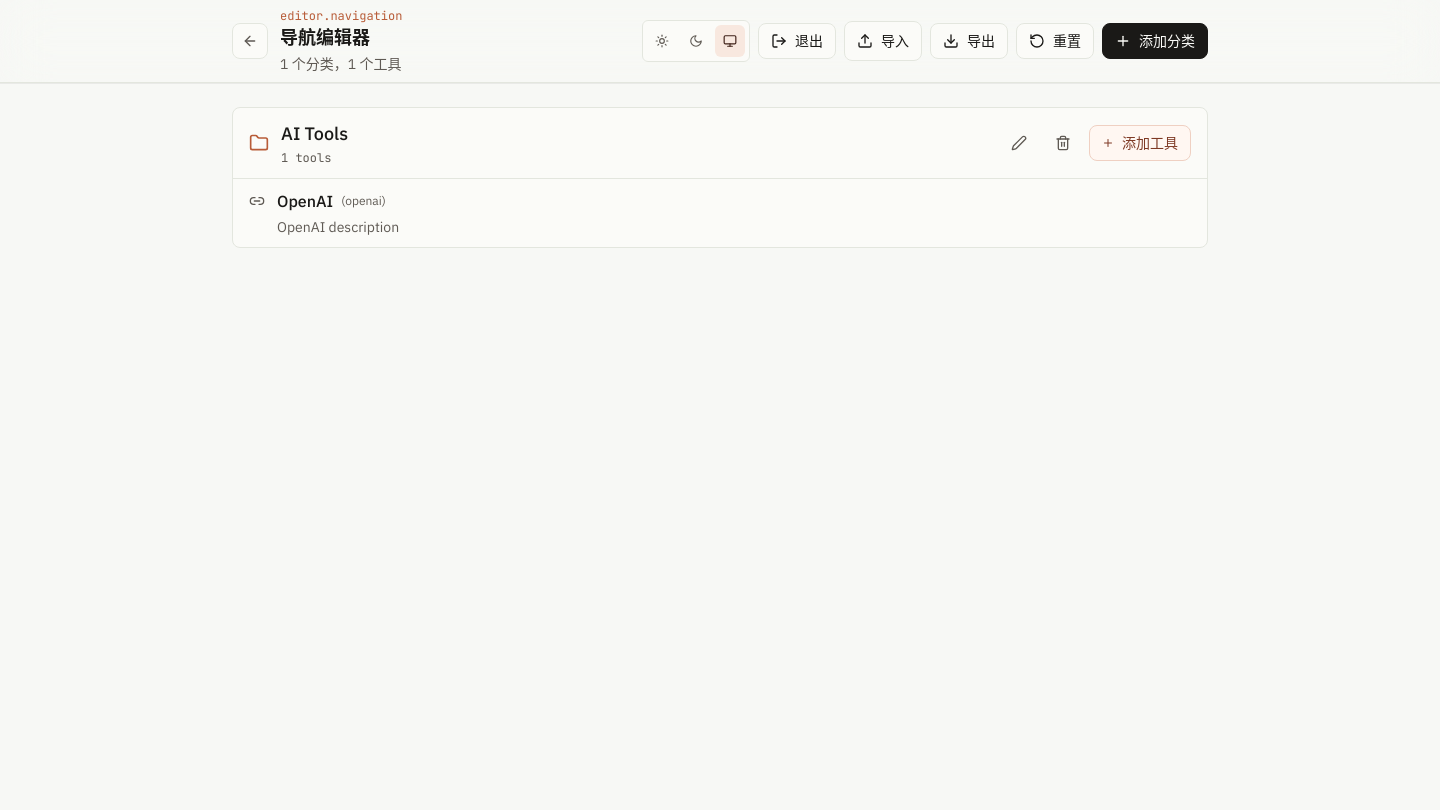
Scenario: NavigationEditorPage › marks and focuses the first invalid field when adding a tool
Click the button "添加工具": [1140, 143] box [1089,125,1191,161]
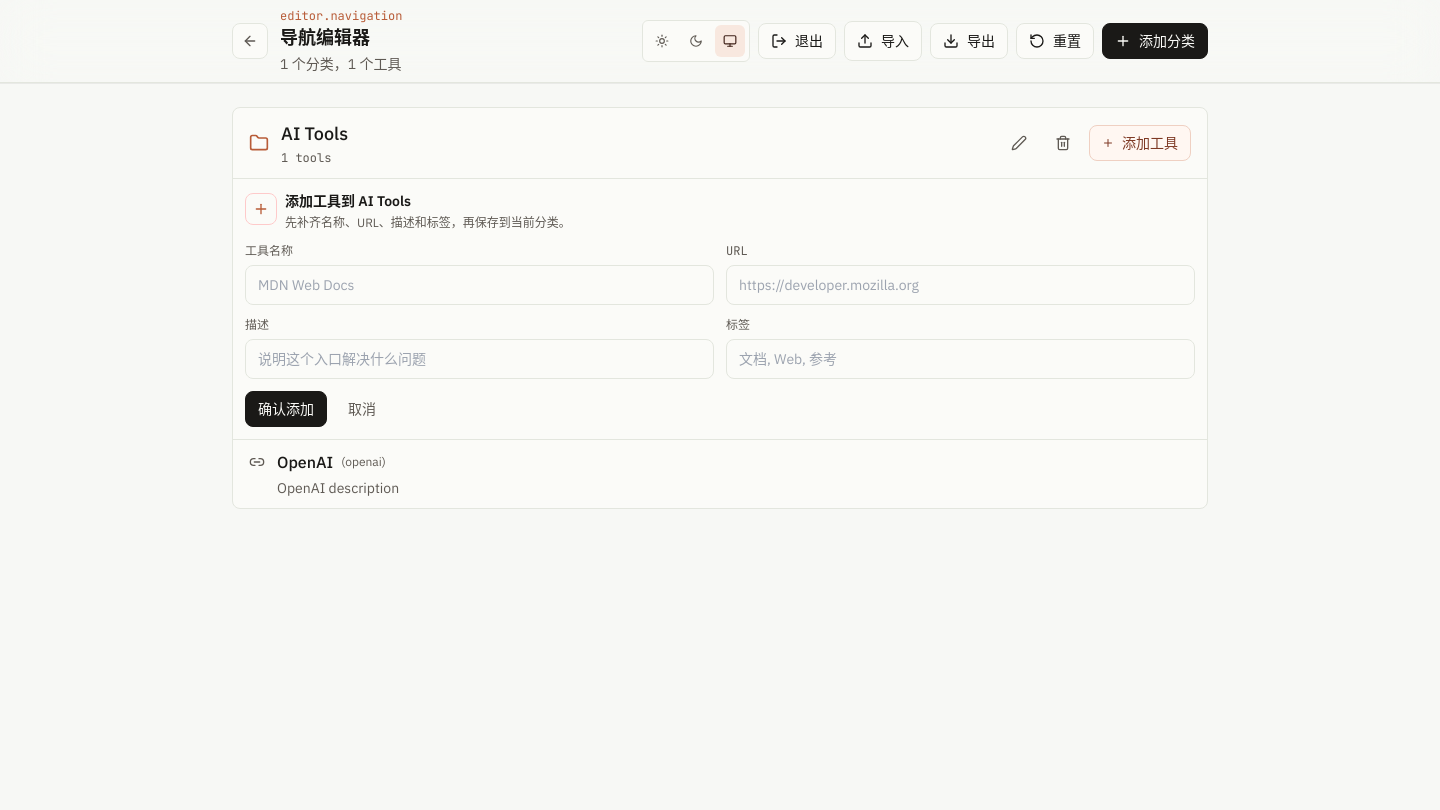
Click the button "确认添加": [286, 409] box [245,391,327,427]
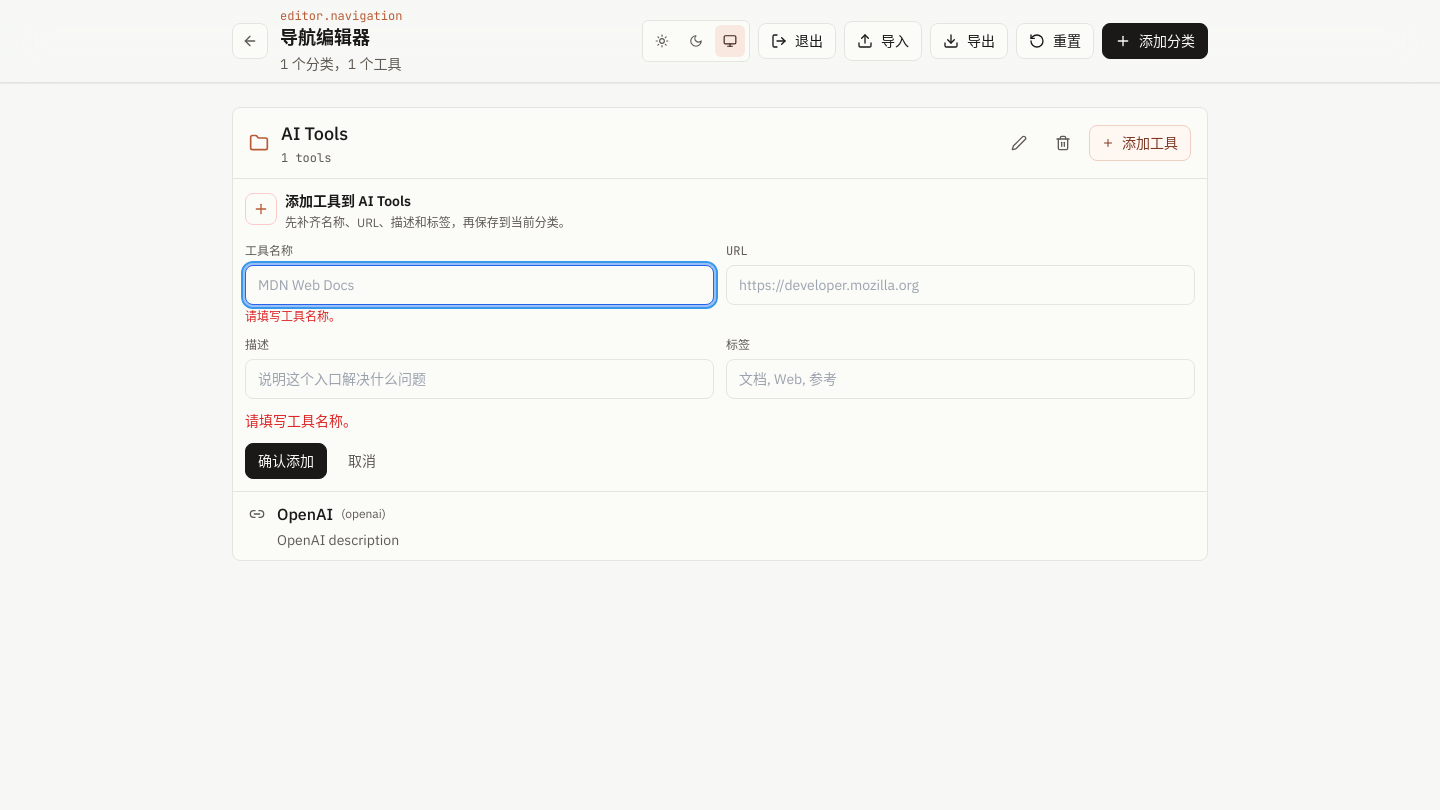
Expected: the text "添加工具到 AI Tools" is shown, [285,192,411,210]
Expected: the text "先补齐名称、URL、描述和标签" is shown, [285,215,571,230]
Expected: the message with id "new-tool-0-title-error" reads "请填写工具名称。", [245,309,341,324]
